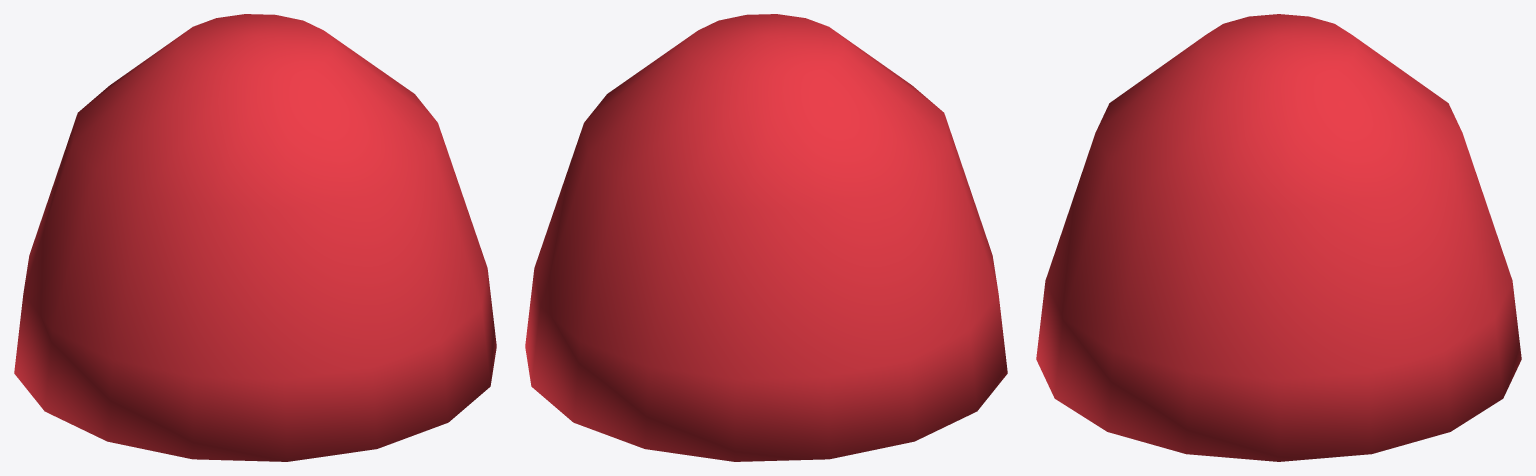
The model's file is testGummy.fbx.
3 renders of one model, left to right at view 1: azimuth 30°, elevation 25°; view 2: azimuth 150°, elevation 25°; view 3: azimuth 270°, elevation 25°, orthographic.
Parts seen in each view (by area): view 1: Cylinder; view 2: Cylinder; view 3: Cylinder.
Boxes of the visible parts, box(x1,y1,x2,y2) form: Cylinder: box(14, 14, 496, 461); Cylinder: box(525, 14, 1007, 461); Cylinder: box(1036, 14, 1521, 461).
Bounding box in the file's own units: 486 × 371 × 486.
